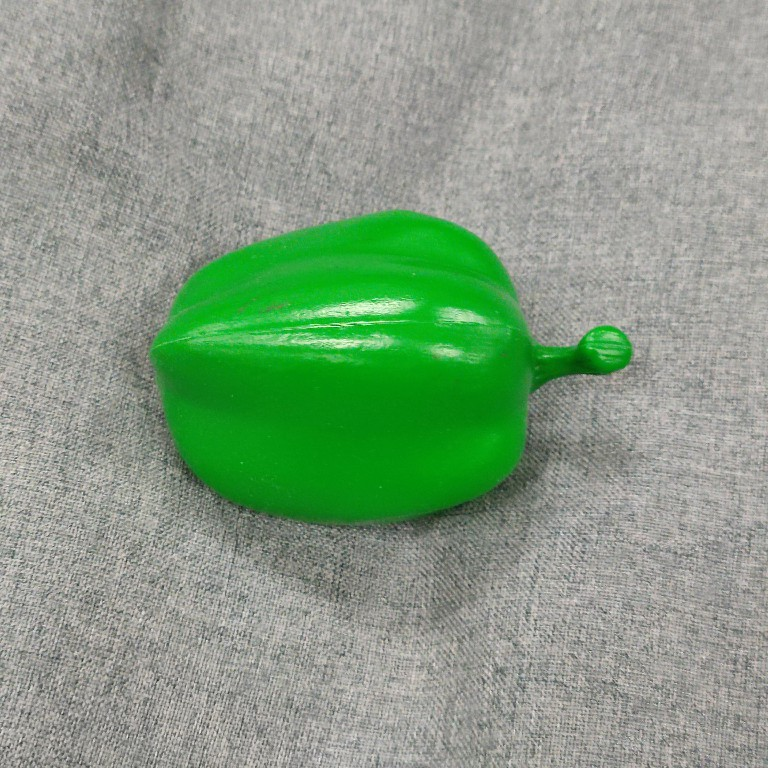fruit_pepper: (142, 206, 635, 531)
